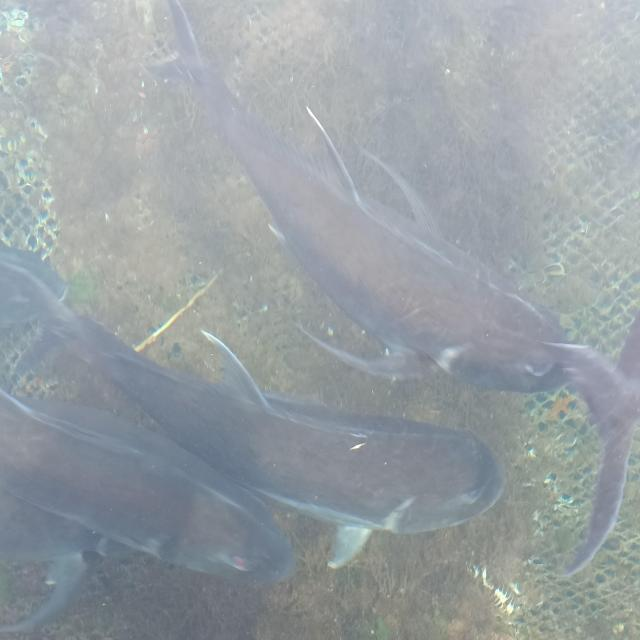ikan: (141, 1, 638, 576), (1, 239, 505, 576), (0, 386, 296, 635)
